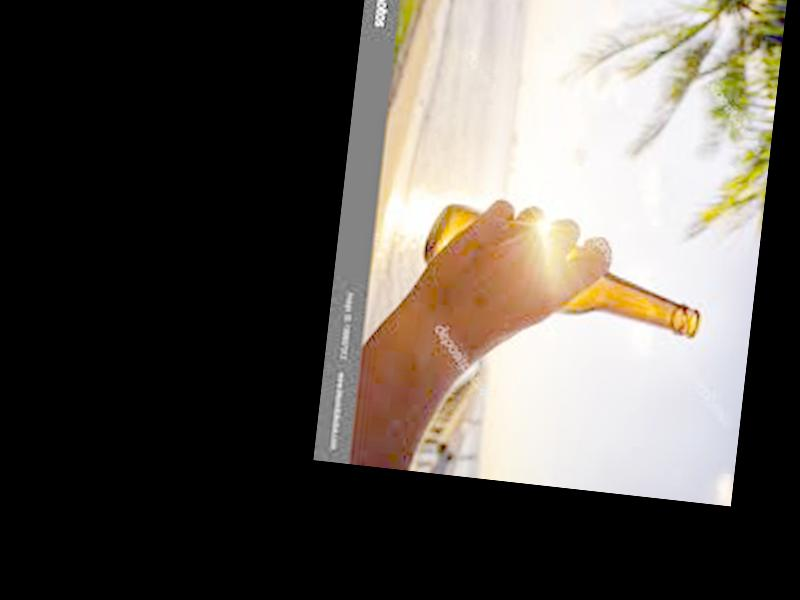Beer: (417, 201, 710, 340)
